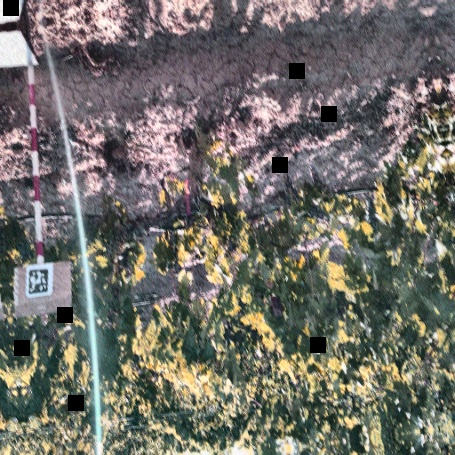QR: (27, 268, 49, 294)
